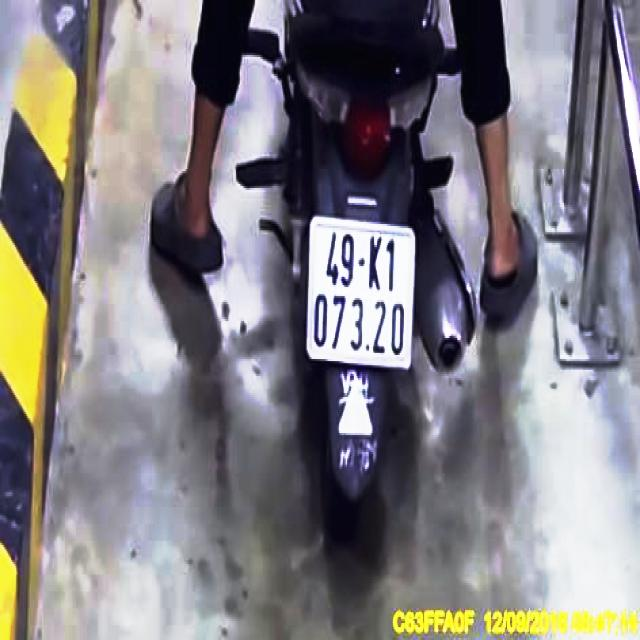license_plate: (311, 220, 414, 371)
